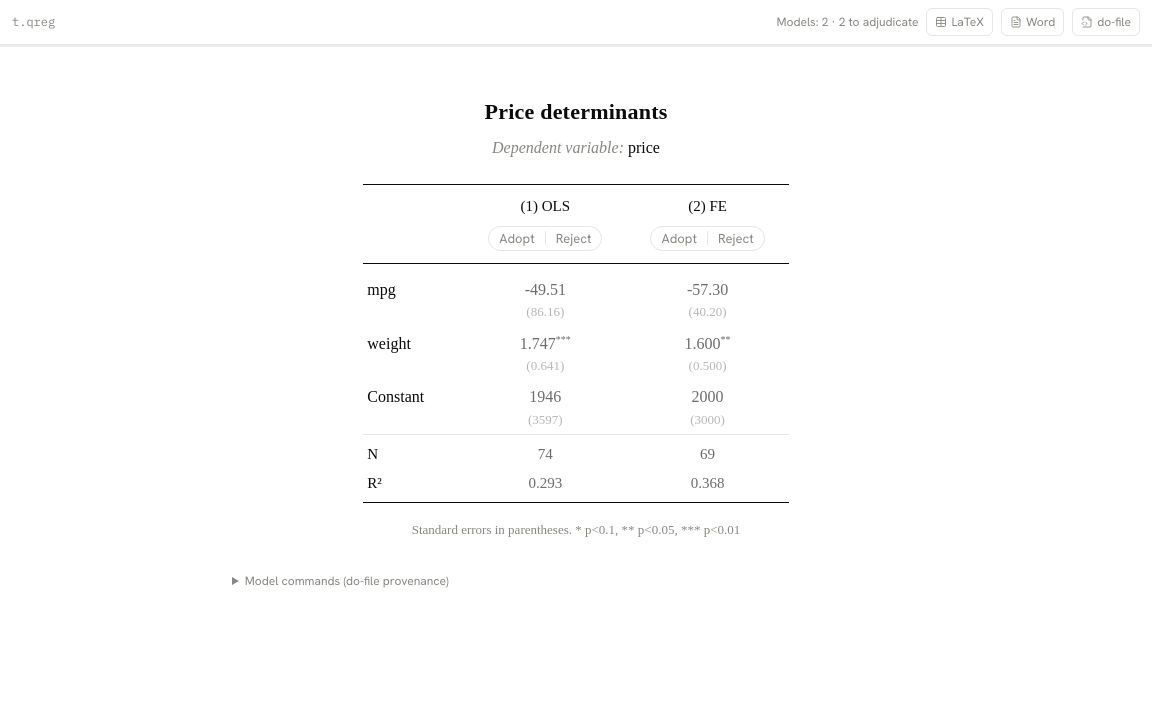
Test: QRegWorkbench › rejecting a model removes its column
Click the 2nd button "Reject" at (736,238), box [708,227,764,250]
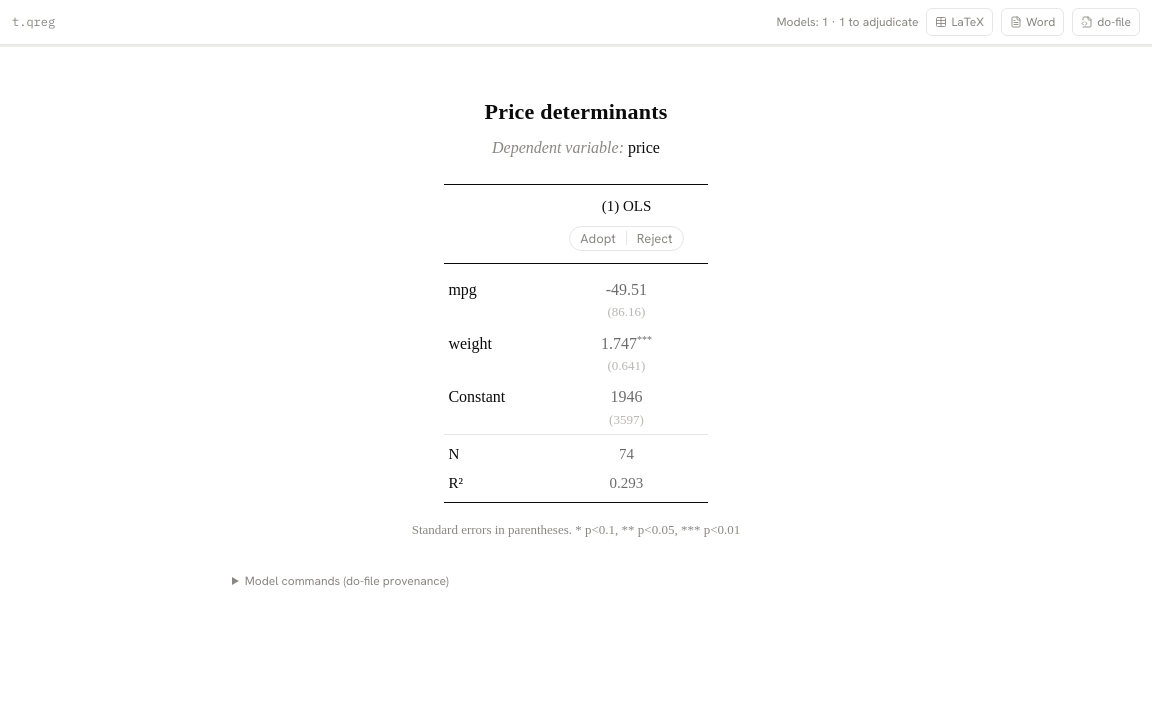
Expected: the text "(2) FE" is not shown
